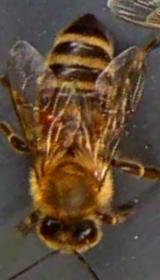varroa_mite: (34, 102, 60, 128)
